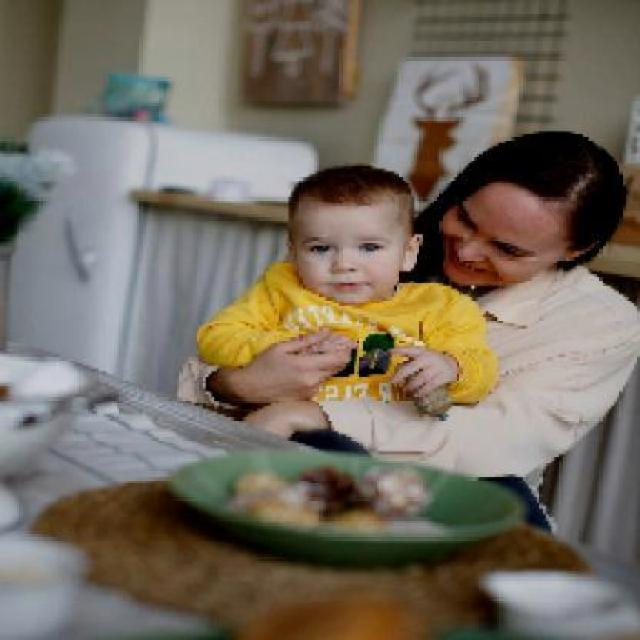child: (196, 164, 502, 399)
